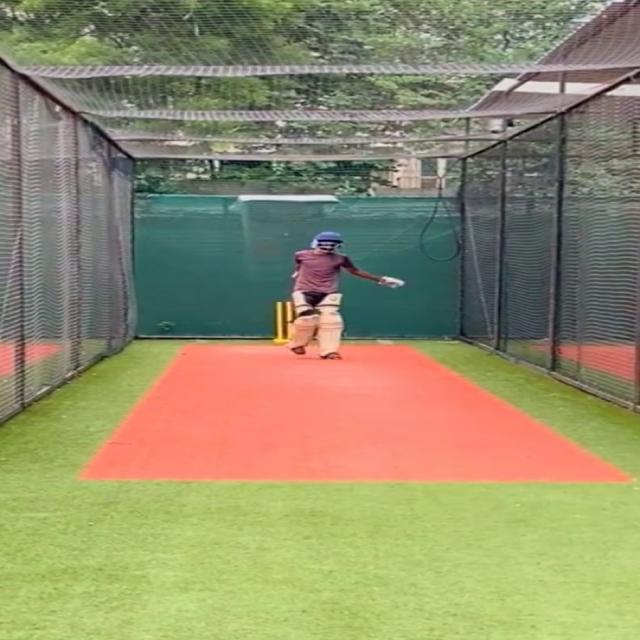stump: (274, 301, 294, 344)
